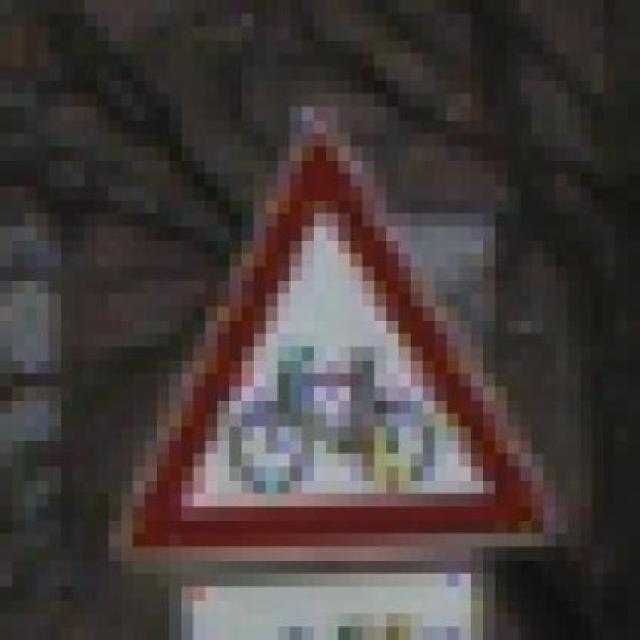CYCLE ROUTE AHEAD WARNING: (97, 93, 568, 587)
